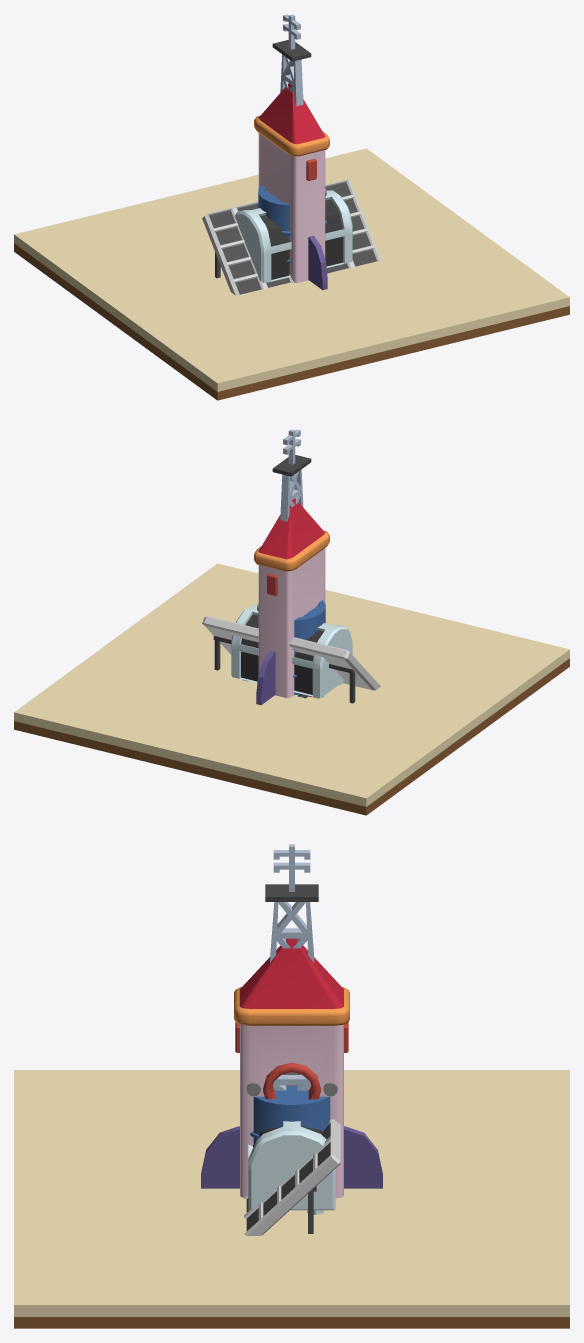
The model's file is Plannet.fbx.
3 renders of one model, top to bottom at view 1: azimuth 30°, elevation 25°; view 2: azimuth 150°, elevation 25°; view 3: azimuth 270°, elevation 25°, orthographic. The views are drawn at different scales.
Visible parts, largest first — view 1: Ground, Phi_thuyen, Pin_mat_troi, Thung_dau, cot_dien, Drum1; view 2: Ground, Phi_thuyen, Thung_dau, Pin_mat_troi, cot_dien, Drum1; view 3: Ground, Phi_thuyen, Thung_dau, cot_dien, Pin_mat_troi, Drum1.
Boxes of the visible parts, x1,y1,x2,y2 form: Ground: (14,148,569,400); Phi_thuyen: (254,83,329,290); Pin_mat_troi: (202,179,380,295); Thung_dau: (235,190,352,283); cot_dien: (272,14,311,106); Drum1: (258,185,326,262); Ground: (14,563,569,815); Phi_thuyen: (254,498,329,705); Thung_dau: (231,605,352,698); Pin_mat_troi: (202,616,380,703); cot_dien: (272,429,311,521); Drum1: (258,600,325,694); Ground: (14,1070,569,1328); Phi_thuyen: (201,938,382,1198); Thung_dau: (248,1121,335,1214); cot_dien: (265,844,318,1090); Pin_mat_troi: (244,1119,340,1235); Drum1: (250,1086,330,1143).
Size of the model in its own units: 565 by 410 by 565.
